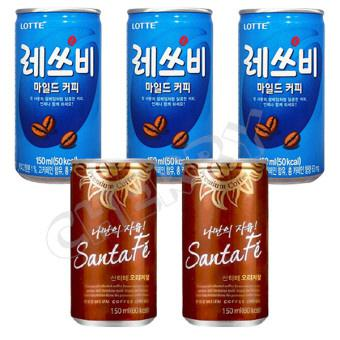letsbe: (11, 8, 105, 183), (238, 7, 327, 191), (125, 6, 212, 184)
